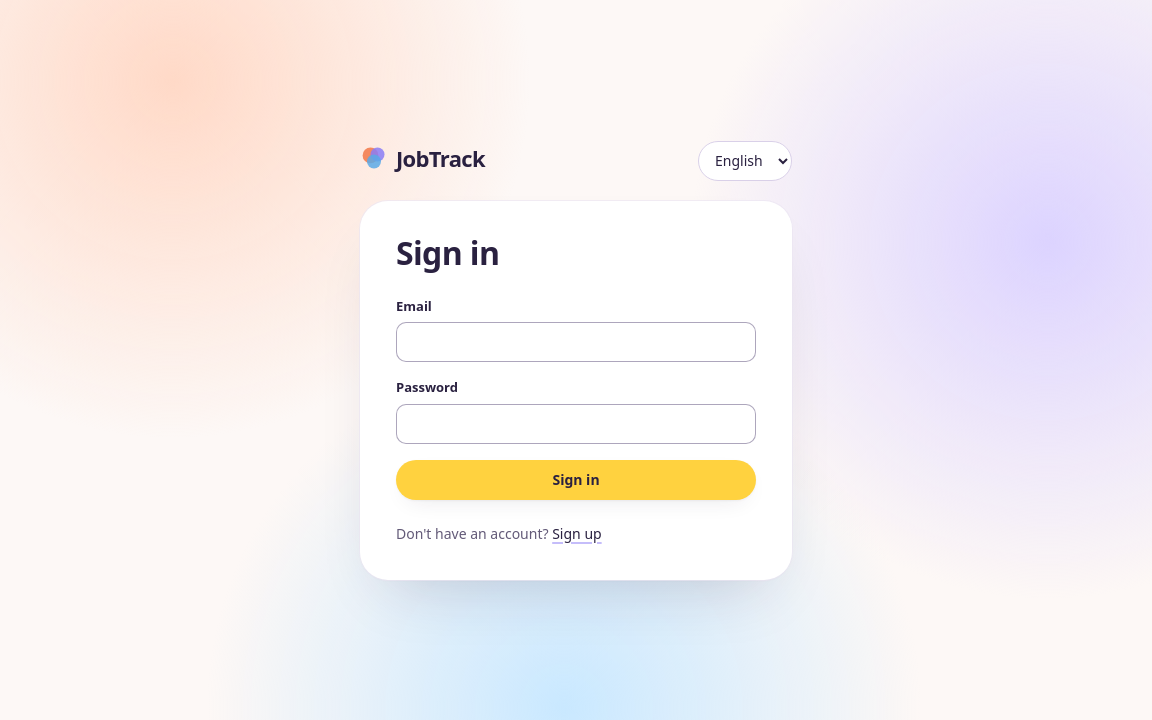
Test: İngilizce hata metinleri (FR-16) › sunucu hatası koduna göre çevrilir
Type "a@b.co" into the field labelled "Email" at point(576, 342), box [396,322,756,362]
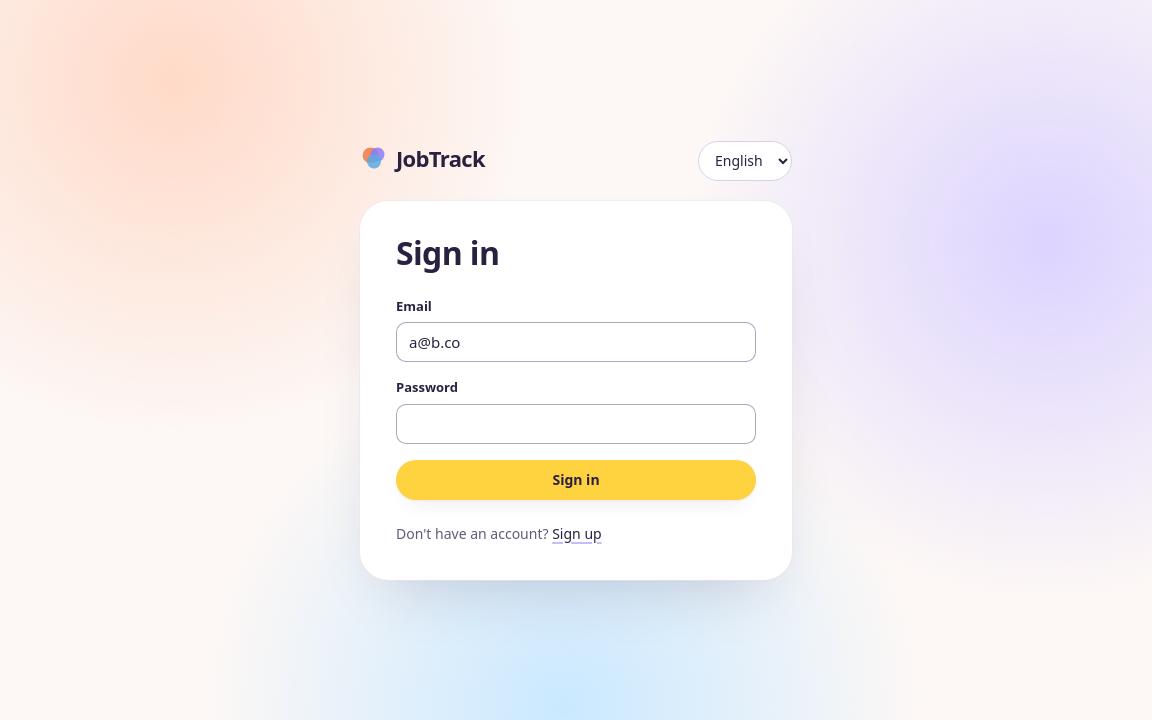
Type "yanlis" into the password field labelled "Password" at point(576, 424), box [396,404,756,444]
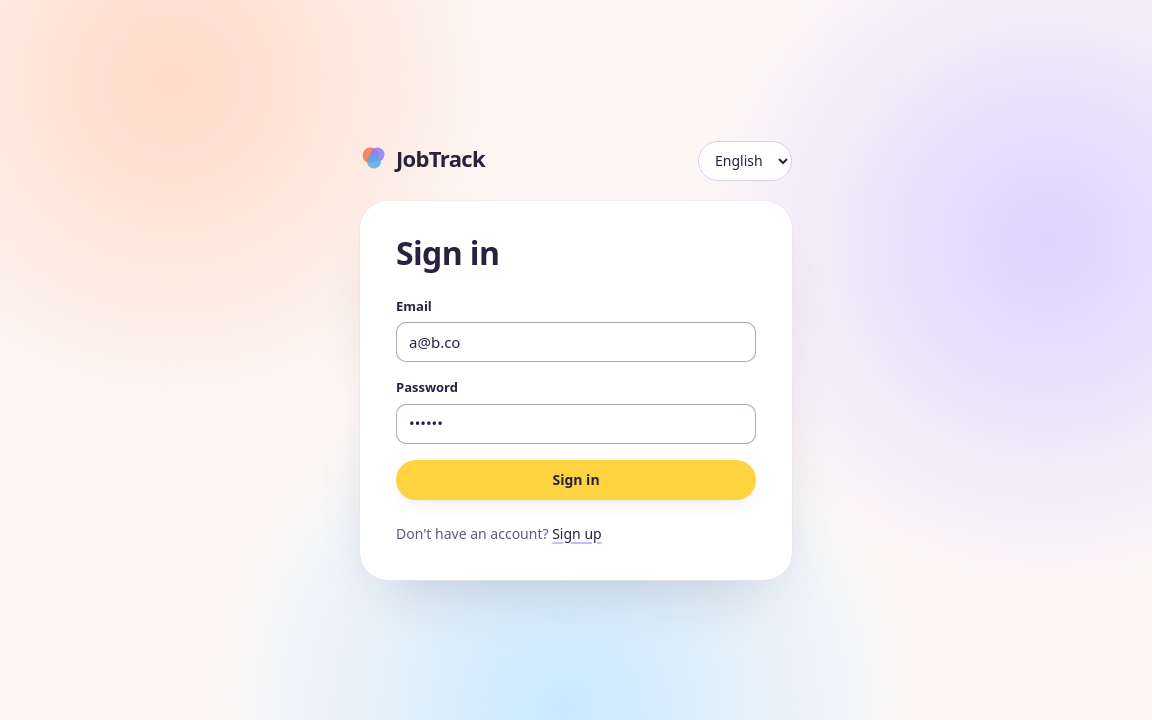
Click the button "Sign in" at point(576, 480), box [396,460,756,500]
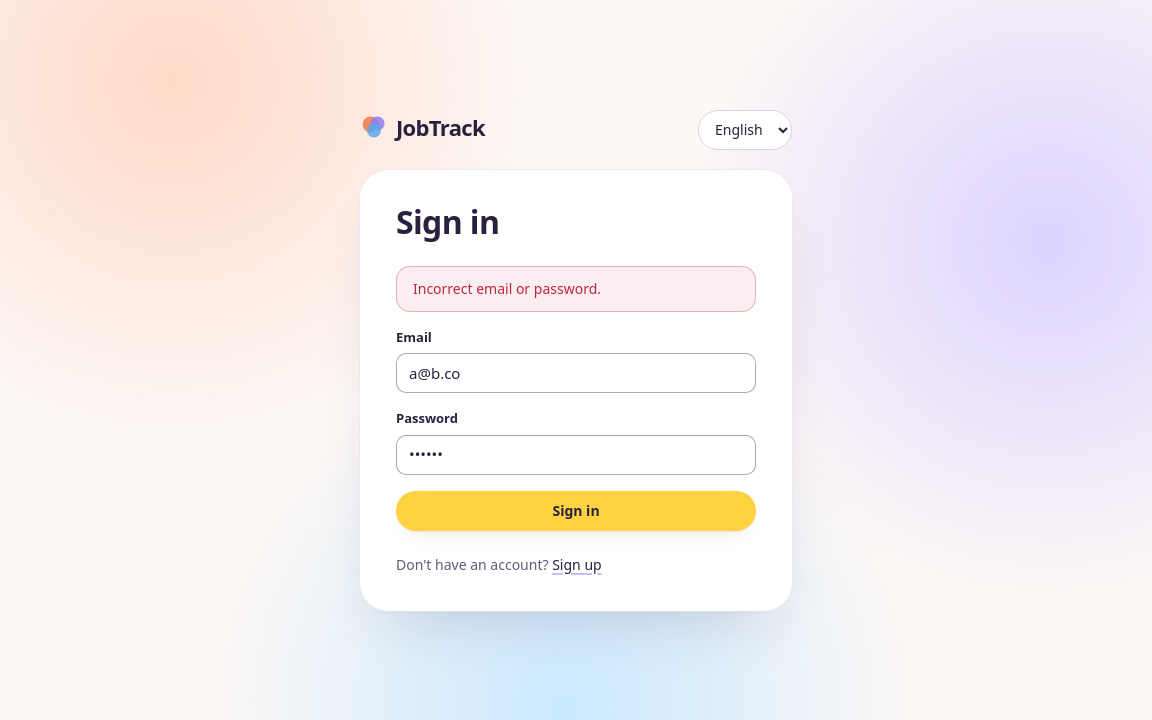
Expected: the message reads "Incorrect email or password.", [413,278,601,298]
